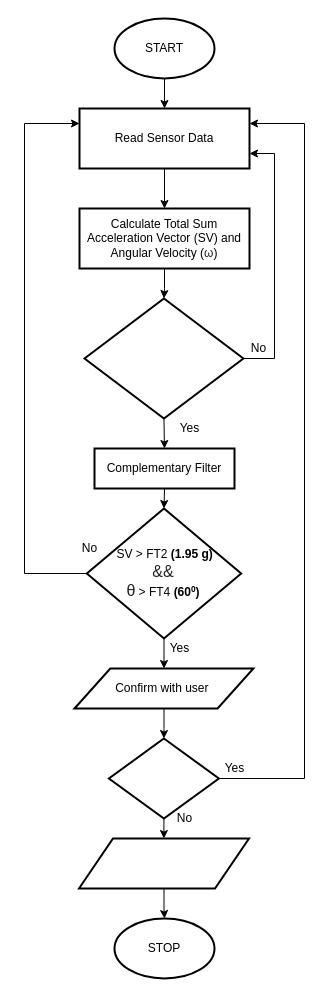
Some shapes in this 330 by 996 pixel diagram are drawn without their labels. Each missing label, with the box of its shape:
Alert the emergency contacts: (78, 837, 250, 889)
If user responds: (107, 737, 219, 819)
SV < FT1 (0.71 g) && ω > FT3 (1.52 deg/s): (83, 297, 244, 419)
